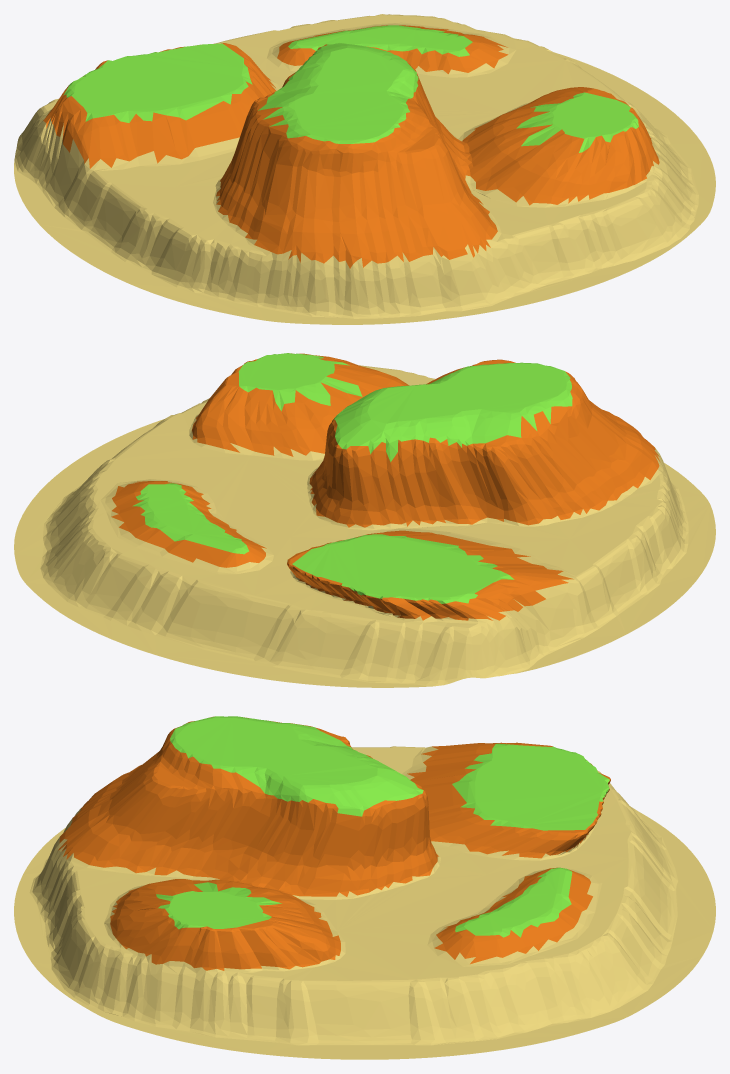
Rendered from island1.fbx.
3 views of the same model, one above another, from view 1: azimuth 30°, elevation 25°; view 2: azimuth 150°, elevation 25°; view 3: azimuth 270°, elevation 25° (orthographic). The views are drawn at different scales.
Visible parts, largest first — view 1: Cube; view 2: Cube; view 3: Cube.
Boxes of the visible parts, x1,y1,x2,y2 form: Cube: (14, 14, 715, 324); Cube: (14, 353, 715, 687); Cube: (14, 716, 715, 1059).
Size of the model in its own units: 3661 by 748 by 3661.
